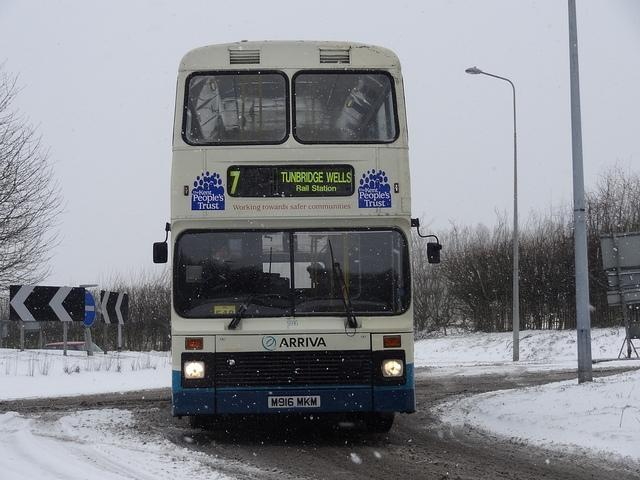bus: (154, 34, 443, 433)
